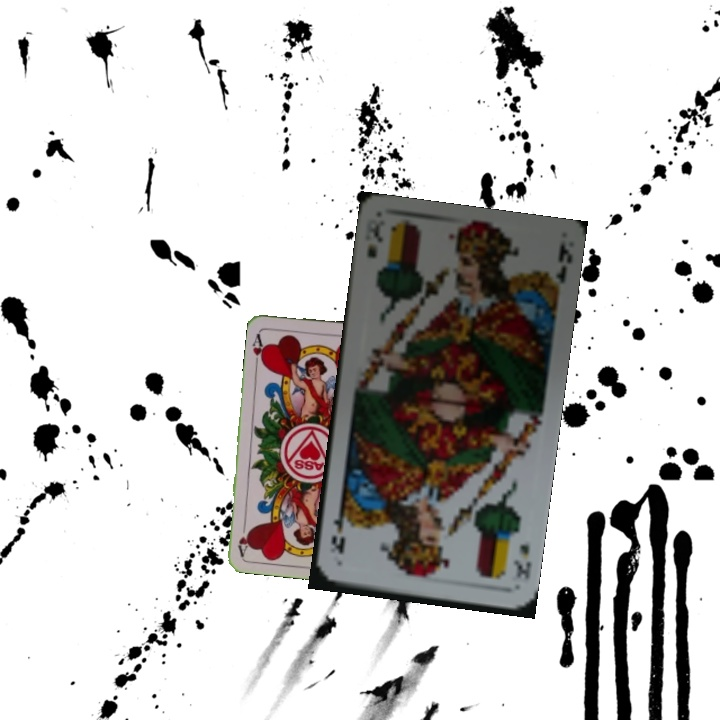EK: (509, 540, 533, 583), (363, 219, 385, 261)
HA: (248, 328, 268, 368)
